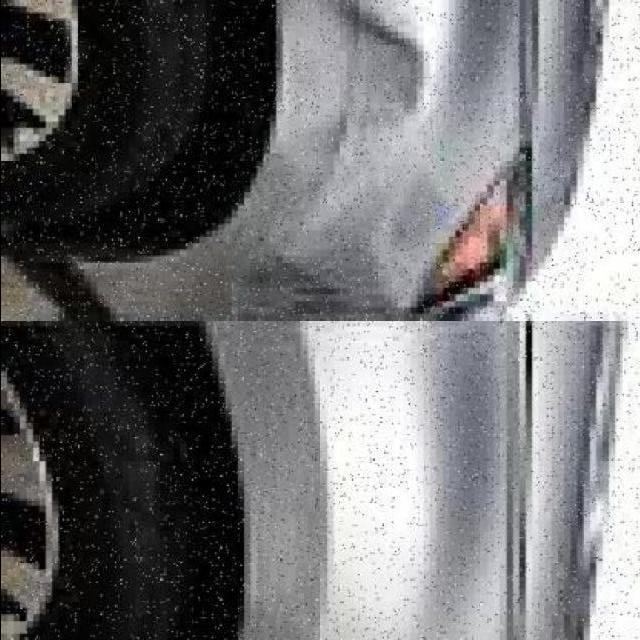fender-dent: (63, 0, 543, 314)
